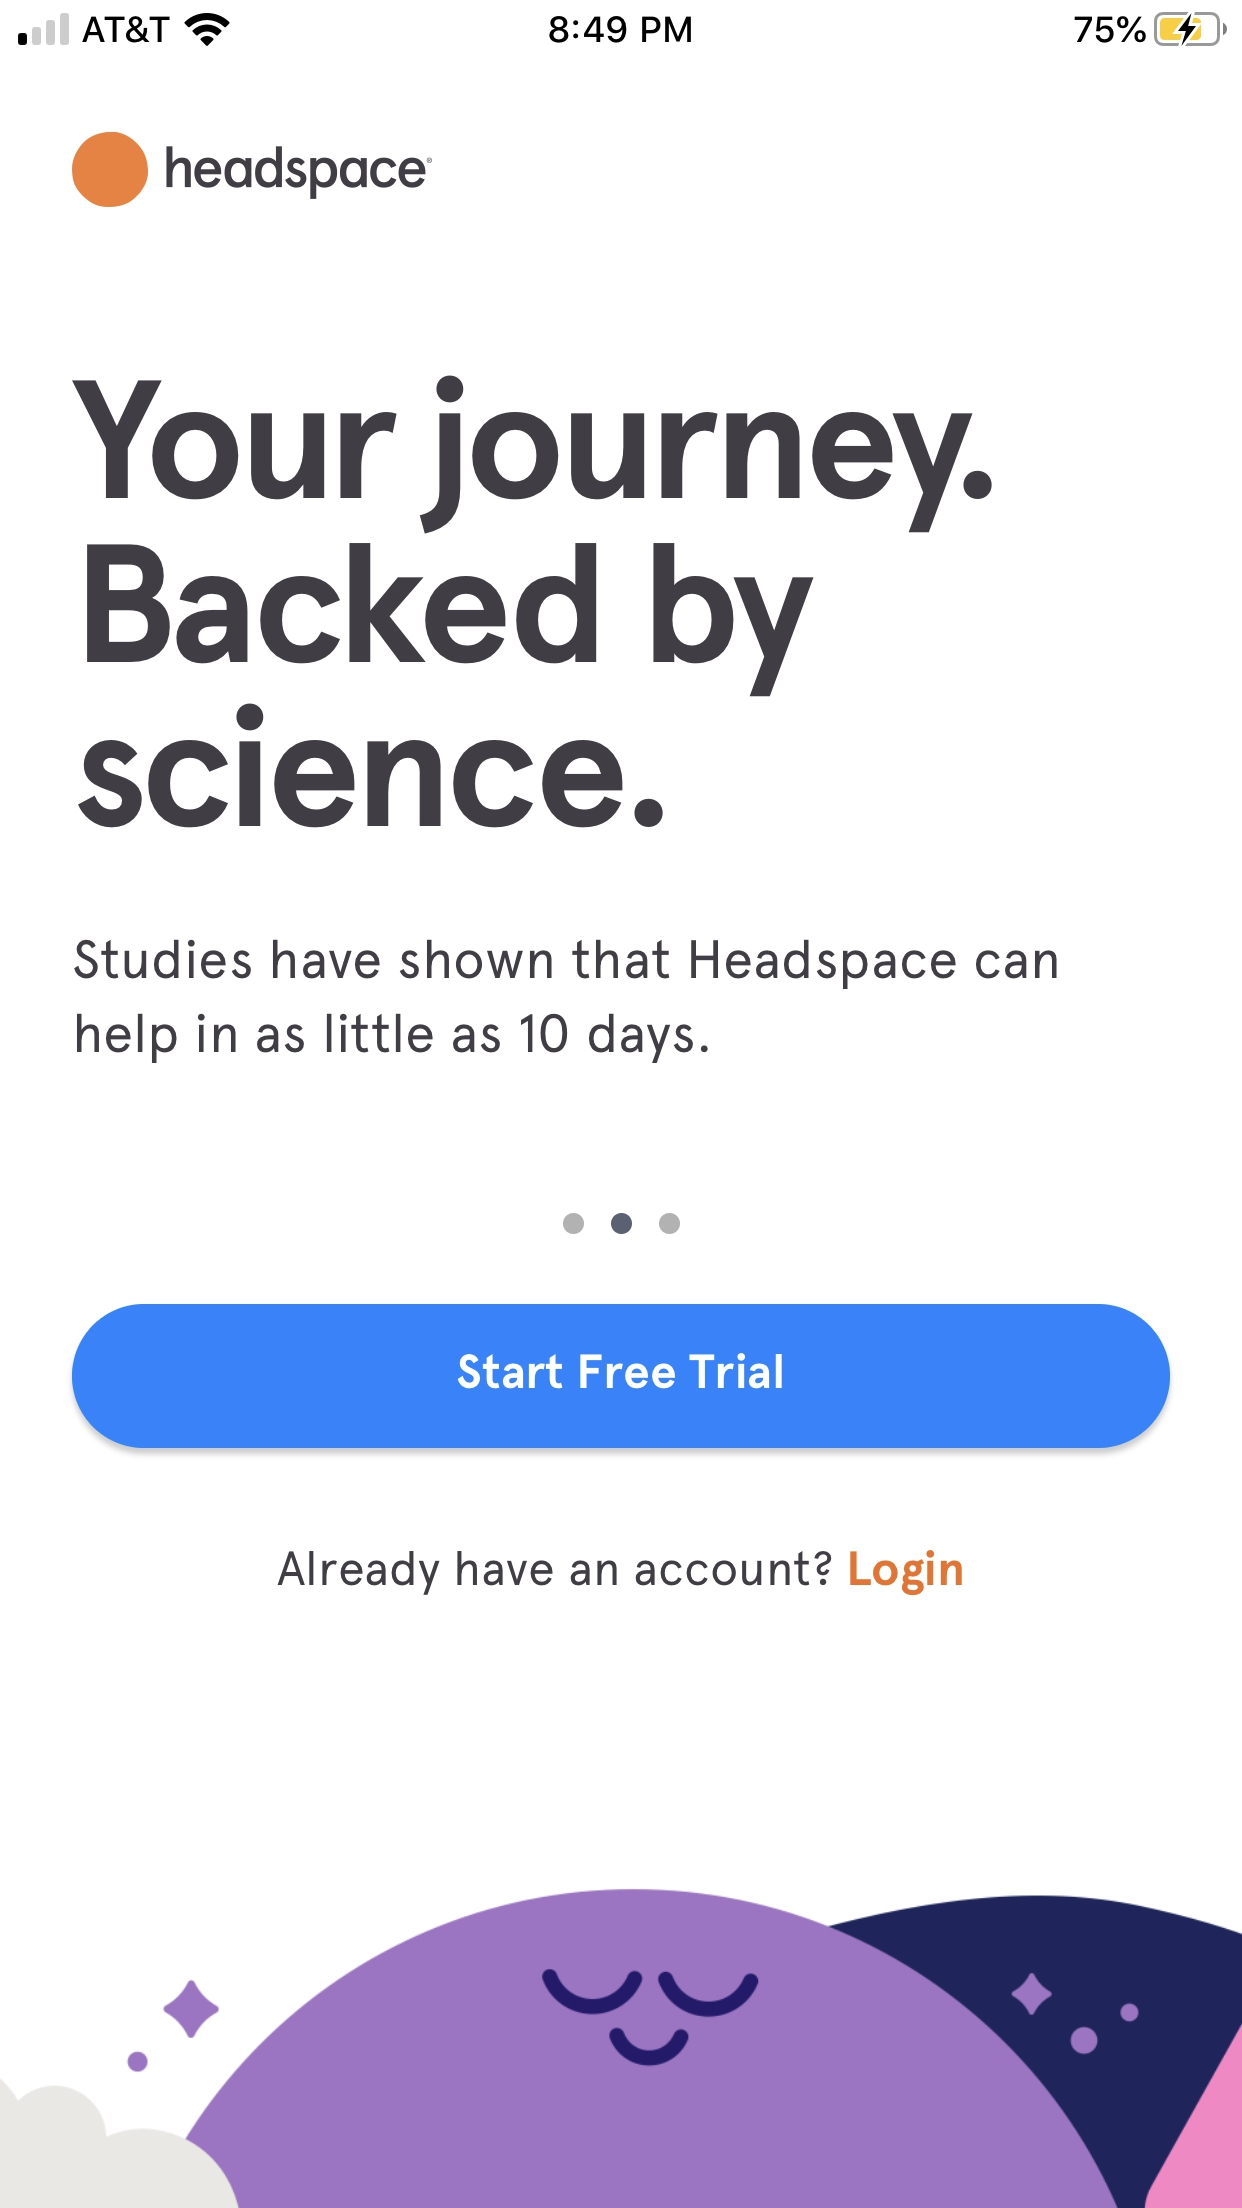Image: (3, 1888, 1240, 2206), (71, 132, 149, 208)
PageIndicator: (563, 1213, 679, 1234)
Text: (71, 375, 992, 828), (74, 939, 1057, 1063), (278, 1551, 833, 1595), (165, 146, 432, 199), (851, 1550, 961, 1595)
TextButton: (71, 1304, 1171, 1448)
UpperTaskBar: (2, 2, 1242, 47)
